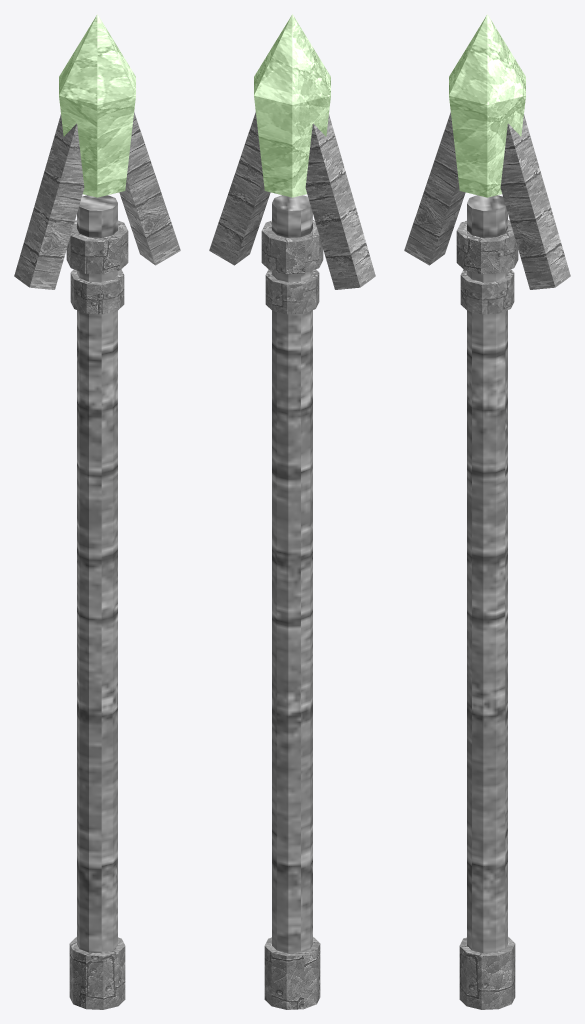
The model's file is staff-venom-simple.glb.
3 views of the same model, side by side, from view 1: azimuth 30°, elevation 25°; view 2: azimuth 150°, elevation 25°; view 3: azimuth 330°, elevation 25° (orthographic).
Parts seen in each view (by area): view 1: shaft, venom-seed, left-hook, right-hook, pommel, binding, neck-band; view 2: shaft, venom-seed, left-hook, right-hook, pommel, binding, neck-band; view 3: shaft, venom-seed, right-hook, left-hook, pommel, binding, neck-band.
Part boxes in pixels (x1=…): shaft: x1=77, y1=195, x2=117, y2=953; venom-seed: x1=59, y1=14, x2=135, y2=197; left-hook: x1=14, y1=114, x2=84, y2=289; right-hook: x1=119, y1=112, x2=180, y2=265; pommel: x1=69, y1=937, x2=125, y2=1009; binding: x1=66, y1=220, x2=128, y2=274; neck-band: x1=70, y1=269, x2=124, y2=314; shaft: x1=272, y1=195, x2=312, y2=953; venom-seed: x1=254, y1=14, x2=330, y2=197; left-hook: x1=305, y1=114, x2=375, y2=289; right-hook: x1=209, y1=112, x2=270, y2=265; pommel: x1=264, y1=937, x2=320, y2=1009; binding: x1=261, y1=220, x2=323, y2=274; neck-band: x1=265, y1=269, x2=319, y2=314; shaft: x1=467, y1=195, x2=507, y2=953; venom-seed: x1=449, y1=14, x2=525, y2=197; right-hook: x1=500, y1=114, x2=570, y2=289; left-hook: x1=404, y1=112, x2=465, y2=265; pommel: x1=459, y1=937, x2=515, y2=1009; binding: x1=456, y1=220, x2=518, y2=274; neck-band: x1=460, y1=269, x2=514, y2=314.
Size of the model in its own units: 0.2945 by 1.83 by 0.1299.
3 materials, 3 textured.
